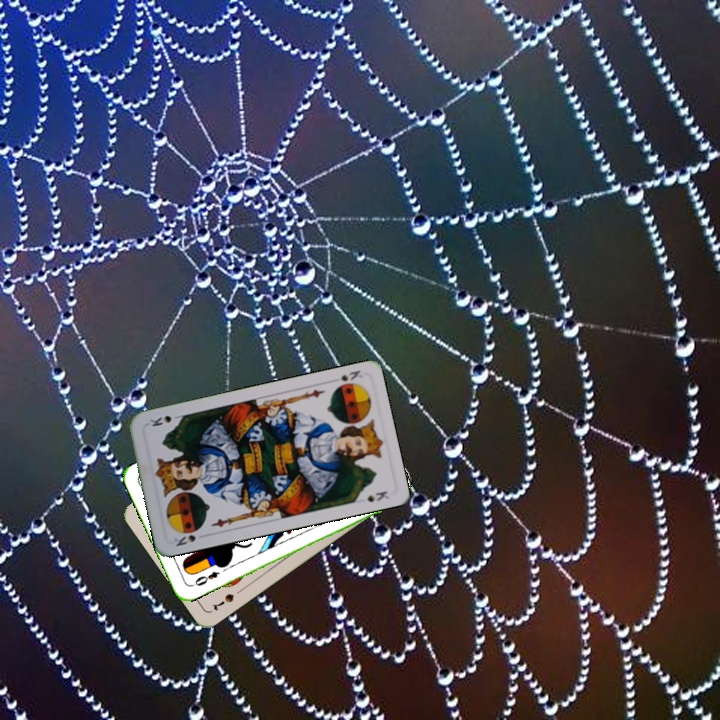EO: (187, 567, 222, 589)
S7: (208, 589, 237, 613)
SK: (170, 525, 203, 549), (335, 366, 364, 384)
